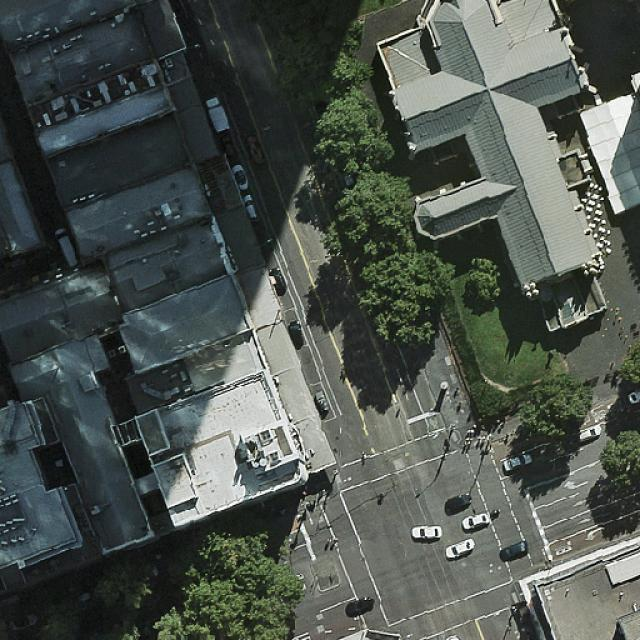Bike-Symbols: (427, 416, 441, 430)
